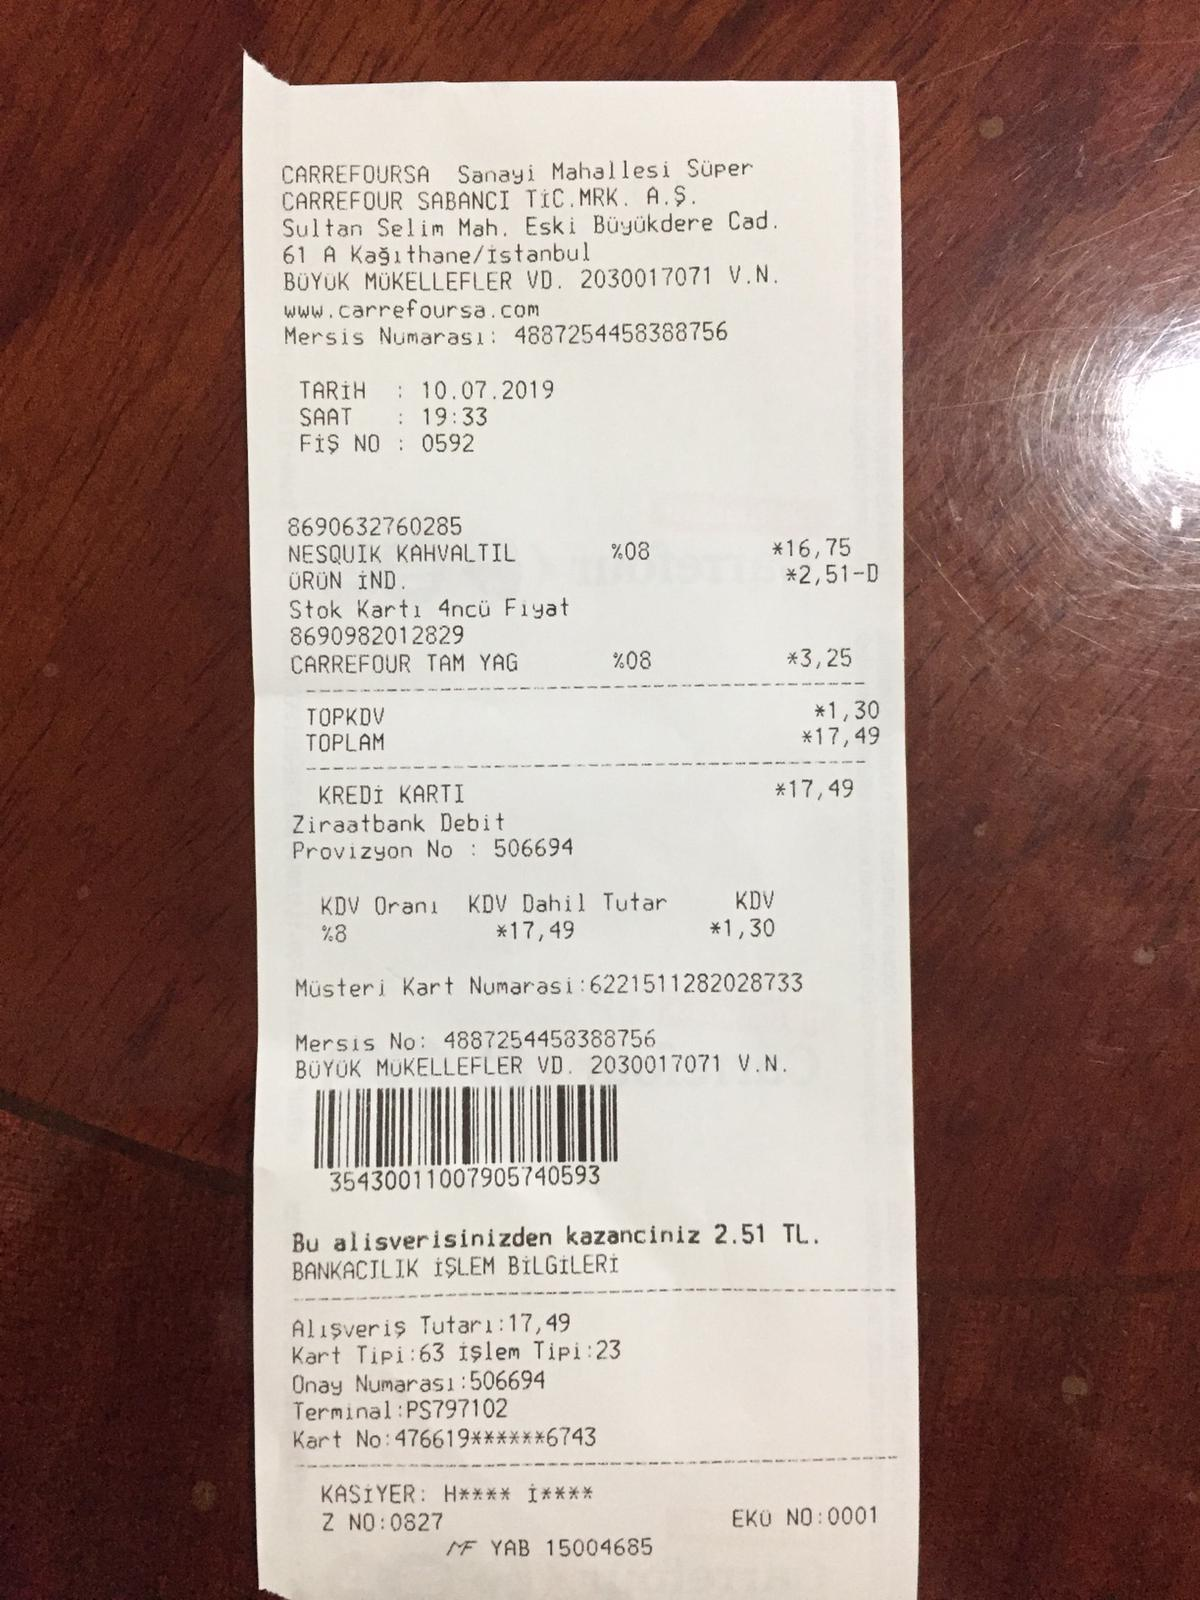total: (302, 721, 889, 754)
